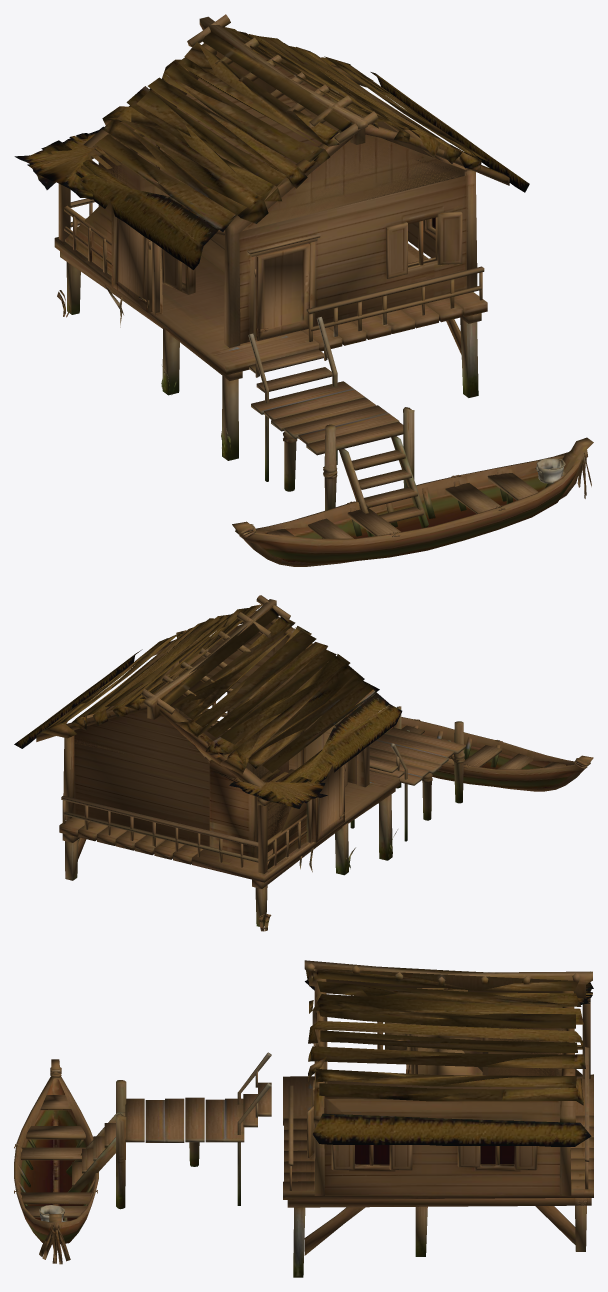
Rendered from selected.glb.
3 renders of one model, top to bottom at view 1: azimuth 30°, elevation 25°; view 2: azimuth 150°, elevation 25°; view 3: azimuth 270°, elevation 25°, orthographic. The views are drawn at different scales.
Visible parts, largest first — view 1: tripo_node_a93d4e29-f57a-4781-bfbb-9878d5b8ac93; view 2: tripo_node_a93d4e29-f57a-4781-bfbb-9878d5b8ac93; view 3: tripo_node_a93d4e29-f57a-4781-bfbb-9878d5b8ac93.
Boxes of the visible parts, <box> form: tripo_node_a93d4e29-f57a-4781-bfbb-9878d5b8ac93: <box>14,14,593,566</box>; tripo_node_a93d4e29-f57a-4781-bfbb-9878d5b8ac93: <box>14,595,593,931</box>; tripo_node_a93d4e29-f57a-4781-bfbb-9878d5b8ac93: <box>14,960,593,1277</box>.
Bounding box in the file's own units: 0.7871 × 0.5293 × 0.998.
Materials: 1 (1 with a texture image).
